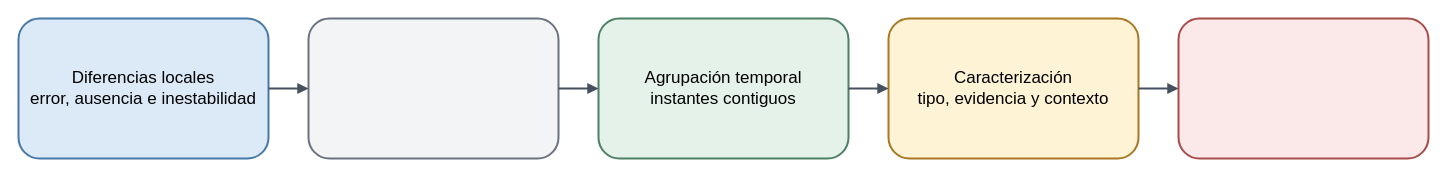
The diagram is 1446 pixels wide and 176 high, and some of its shapes have lost their labels. The shapes that lost their labels are listed below. From the top down, each one's centre as x and y in pixels, then its label:
(433,88): Detección magnitud, duración y confianza
(1303,88): Priorización severidad y persistencia
